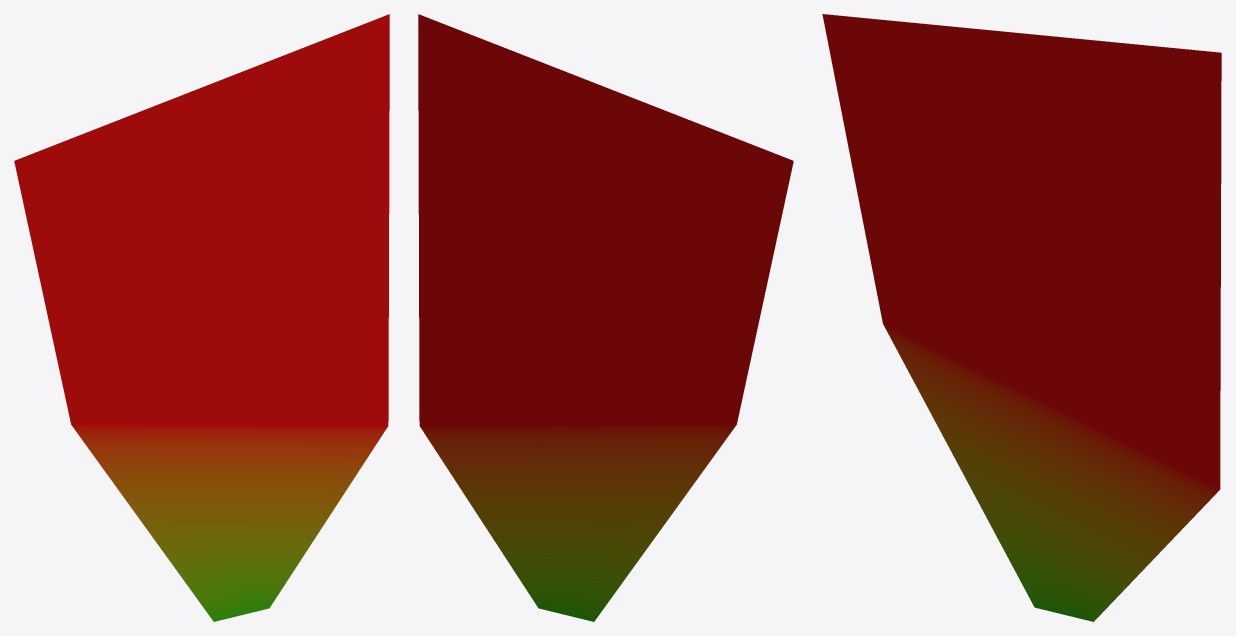
File: Cane Palm_LOD3_Var1_siBmK.fbx
3 views of the same model, side by side, from view 1: azimuth 30°, elevation 25°; view 2: azimuth 150°, elevation 25°; view 3: azimuth 330°, elevation 25° (orthographic). The views are drawn at different scales.
Parts seen in each view (by area): view 1: _f4e3_Var1_LOD3; view 2: _f4e3_Var1_LOD3; view 3: _f4e3_Var1_LOD3.
Boxes of the visible parts, x1,y1,x2,y2 form: _f4e3_Var1_LOD3: (14, 14, 389, 621); _f4e3_Var1_LOD3: (418, 14, 793, 621); _f4e3_Var1_LOD3: (822, 14, 1221, 621).
Bounding box in the file's own units: 30.83 × 44.32 × 7.39e-06.
